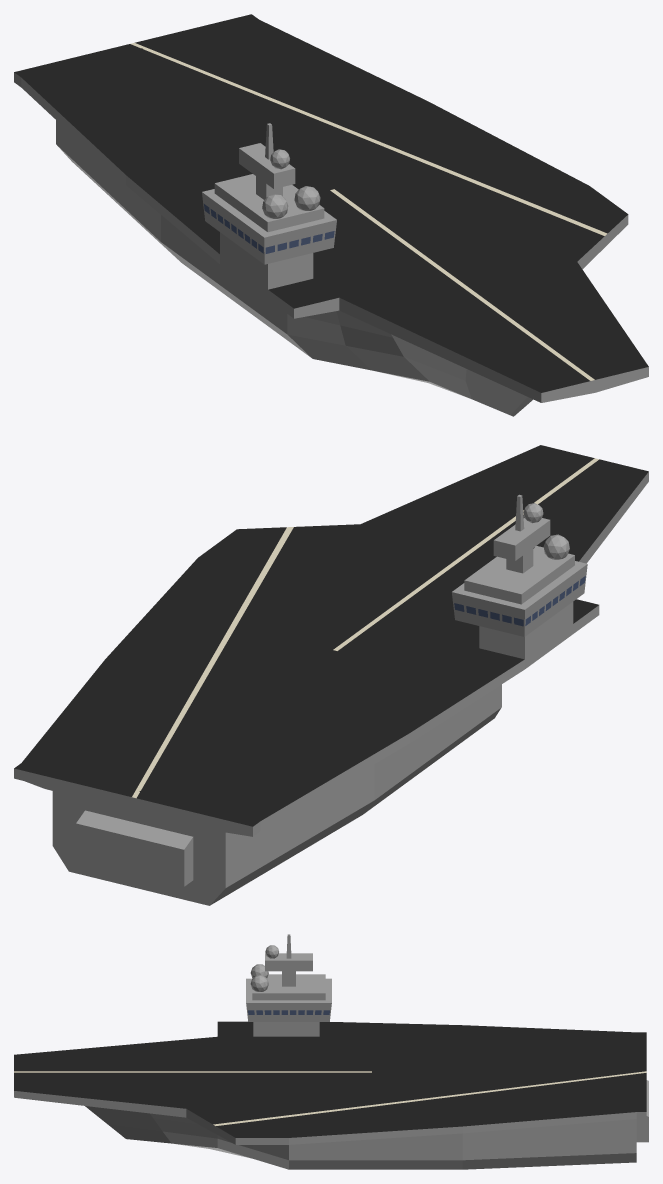
Rendered from aircraft_carrier.glb.
3 views of the same model, one above another, from view 1: azimuth 30°, elevation 25°; view 2: azimuth 150°, elevation 25°; view 3: azimuth 270°, elevation 25° (orthographic). The views are drawn at different scales.
Visible parts, largest first — view 1: Cube; view 2: Cube; view 3: Cube.
Part boxes in pixels (box(x1,y1,x2,y2)): Cube: box(14, 14, 648, 416); Cube: box(14, 445, 648, 905); Cube: box(14, 934, 648, 1169).
Bounding box in the file's own units: 3.31 × 2.1 × 7.44.
